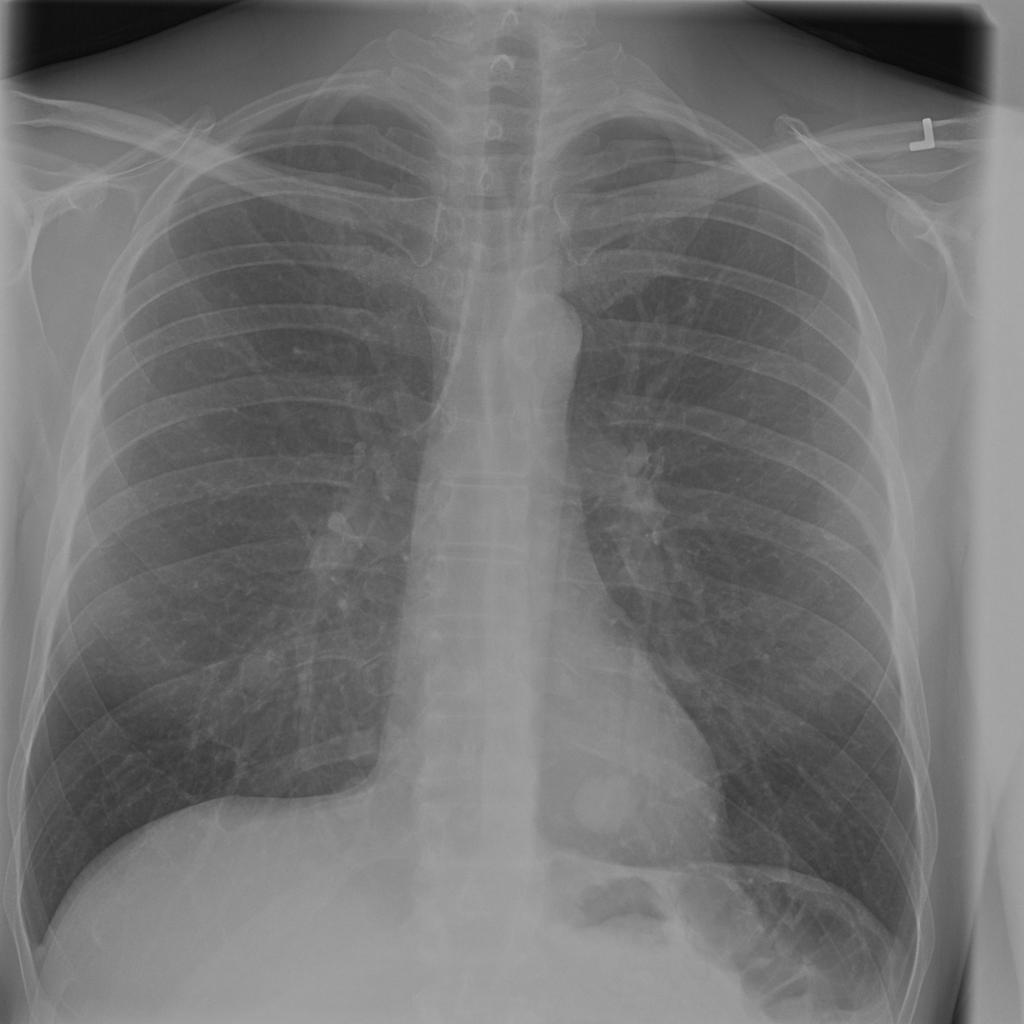nodule: (557, 747, 656, 851), (317, 760, 391, 837)
